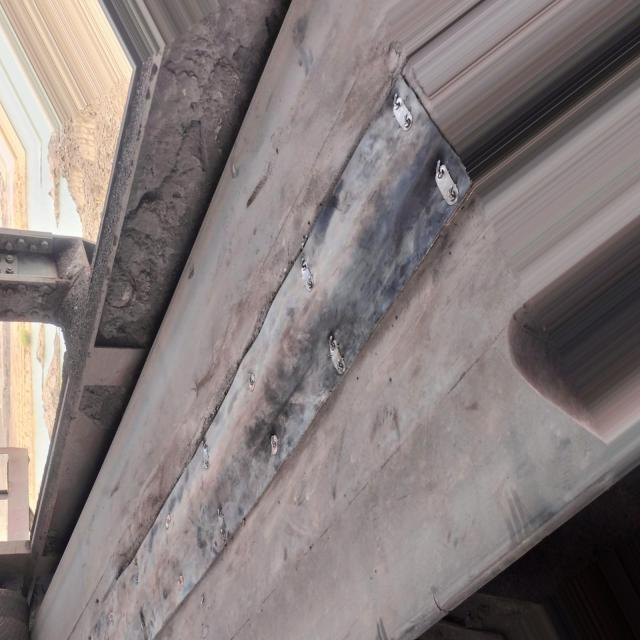patch work: (59, 57, 489, 640)
